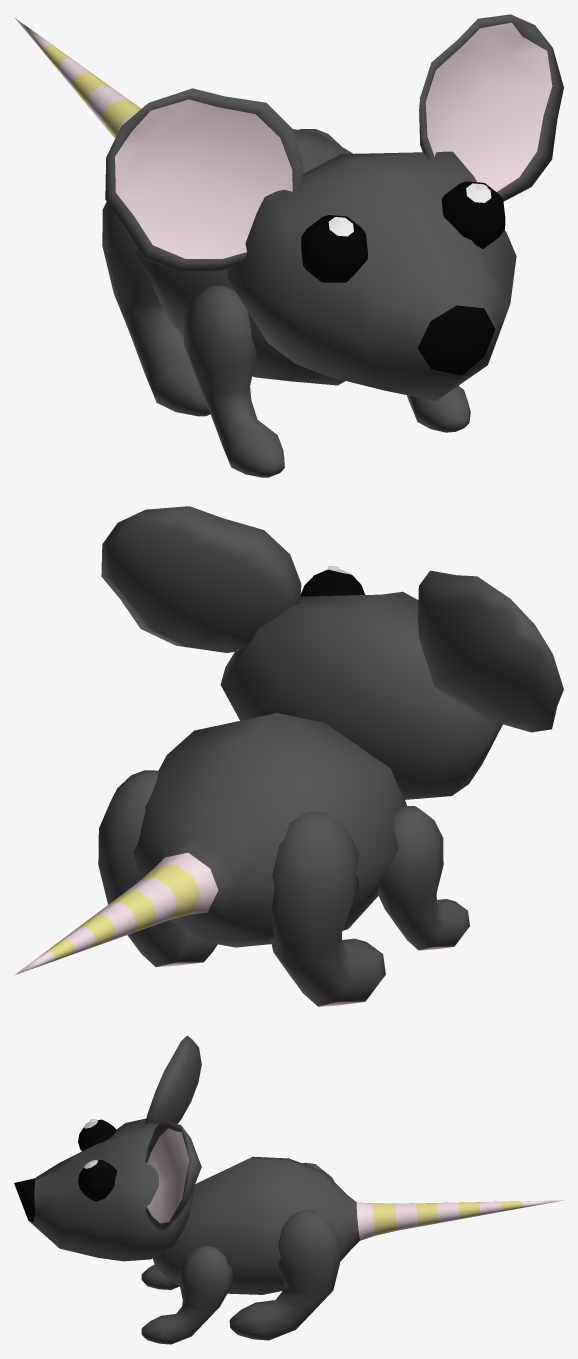
File: Snack.fbx
The picture shows the model from 3 angles, top to bottom: view 1: azimuth 30°, elevation 25°; view 2: azimuth 150°, elevation 25°; view 3: azimuth 270°, elevation 25°; orthographic projection. The views are drawn at different scales.
Visible parts, largest first — view 1: Sphere, Sphere.003, Sphere.002, Sphere.001; view 2: Sphere, Sphere.002, Sphere.003, Sphere.001; view 3: Sphere, Sphere.002, Sphere.003, Sphere.001.
Boxes of the visible parts, <box> form: Sphere: <box>105,14,563,400</box>; Sphere.003: <box>102,129,470,477</box>; Sphere.002: <box>15,18,353,385</box>; Sphere.001: <box>301,181,505,282</box>; Sphere: <box>101,506,563,799</box>; Sphere.002: <box>15,713,406,974</box>; Sphere.003: <box>98,770,469,1006</box>; Sphere.001: <box>300,566,364,596</box>; Sphere: <box>14,1035,201,1261</box>; Sphere.002: <box>152,1156,563,1294</box>; Sphere.003: <box>141,1162,340,1344</box>; Sphere.001: <box>78,1119,117,1201</box>.
Bounding box in the file's own units: 211 × 170 × 364.
